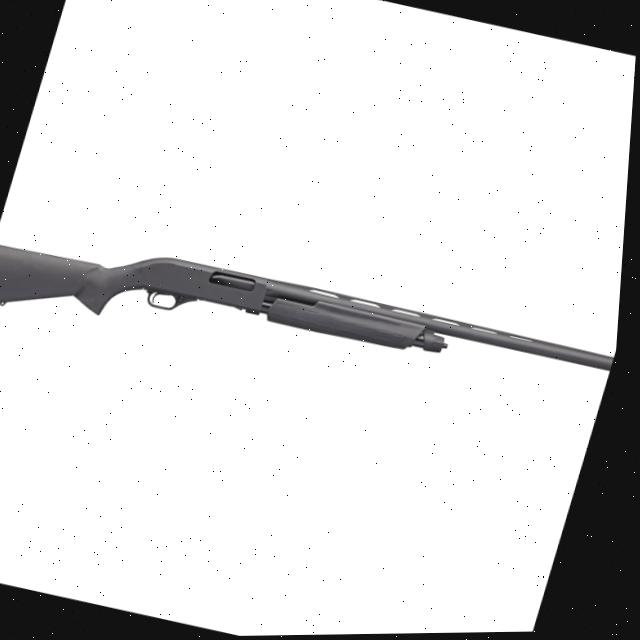firearm: (0, 208, 628, 458)
